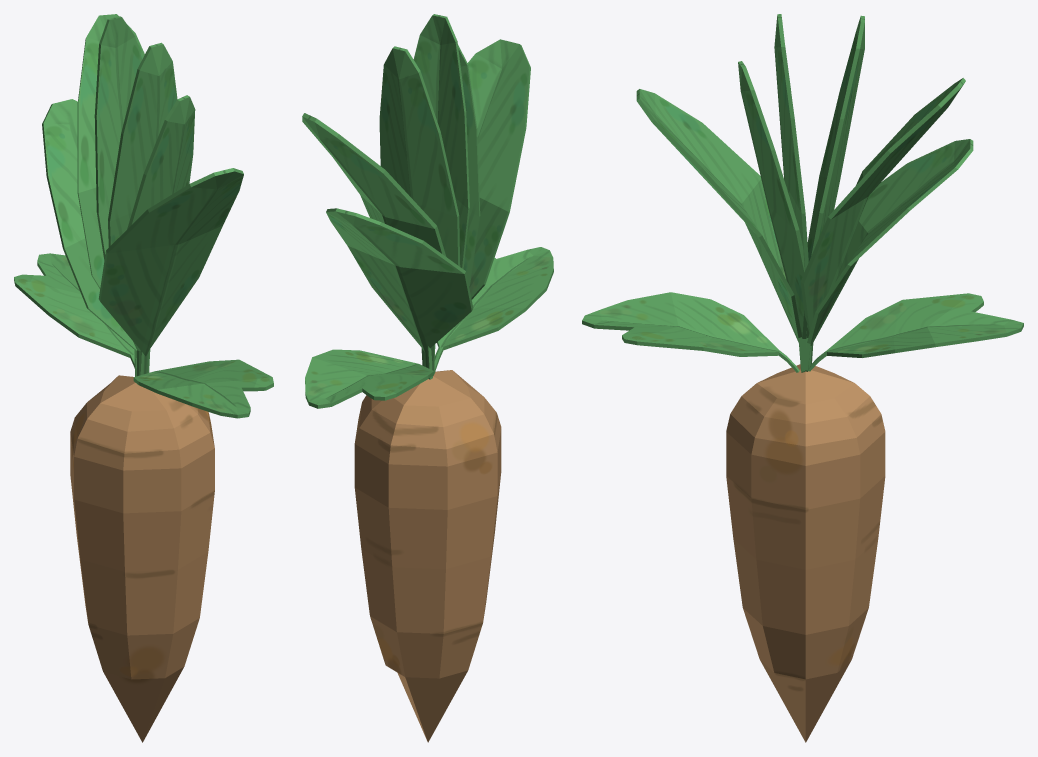
Rendered from finalStageCarrot.fbx.
The picture shows the model from 3 angles, left to right: view 1: azimuth 30°, elevation 25°; view 2: azimuth 150°, elevation 25°; view 3: azimuth 270°, elevation 25°; orthographic projection. The views are drawn at different scales.
Parts seen in each view (by area): view 1: Carrot, bigleaf1.001, bigleaf2.002, bigleaf1, bigleaf2.001, smallLeaf1.001, bigleaf1.002, smallLeaf1, bigleaf2; view 2: Carrot, bigleaf1, bigleaf1.001, bigleaf2.001, bigleaf2.002, smallLeaf1.001, bigleaf1.002, smallLeaf1, bigleaf2; view 3: Carrot, bigleaf1.001, smallLeaf1.001, smallLeaf1, bigleaf1.002, bigleaf1, bigleaf2, bigleaf2.001, bigleaf2.002.
Part boxes in pixels (box(x1,y1,x2,y2)): Carrot: box(70, 375, 214, 742); bigleaf1.001: box(98, 168, 243, 375); bigleaf2.002: box(108, 42, 177, 247); bigleaf1: box(42, 99, 136, 357); bigleaf2.001: box(94, 16, 142, 260); smallLeaf1.001: box(133, 359, 273, 418); bigleaf1.002: box(77, 14, 144, 376); smallLeaf1: box(14, 253, 134, 367); bigleaf2: box(127, 95, 195, 376); Carrot: box(354, 370, 501, 742); bigleaf1: box(326, 208, 473, 366); bigleaf1.001: box(434, 39, 530, 356); bigleaf2.001: box(379, 46, 460, 266); bigleaf2.002: box(413, 14, 469, 269); smallLeaf1.001: box(434, 247, 553, 373); bigleaf1.002: box(302, 113, 446, 379); smallLeaf1: box(305, 349, 433, 408); bigleaf2: box(431, 45, 480, 375); Carrot: box(726, 364, 885, 742); bigleaf1.001: box(636, 89, 805, 372); smallLeaf1.001: box(582, 292, 799, 372); smallLeaf1: box(808, 293, 1023, 371); bigleaf1.002: box(800, 78, 965, 368); bigleaf1: box(804, 139, 973, 371); bigleaf2: box(738, 61, 804, 337); bigleaf2.001: box(802, 15, 864, 362); bigleaf2.002: box(774, 14, 809, 346).
Size of the model in its own units: 237 by 1169 by 644.
